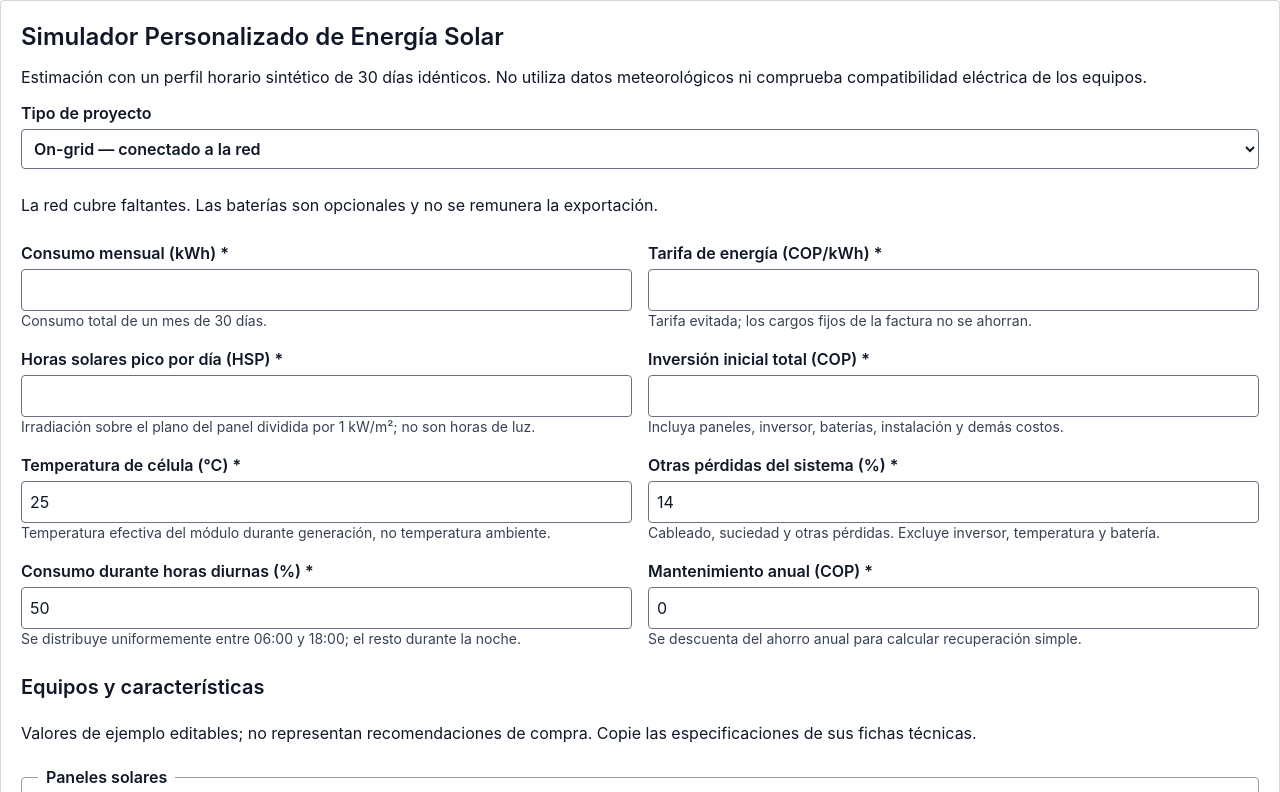
Test: SimuladorPersonalizado › Validación de campos › muestra error cuando la inversión es inválida
The image size is (1280, 792).
In the number field with test id "input-inversion-inicial": {"x": 954, "y": 396} [648, 375, 1259, 417], type "-1000000"
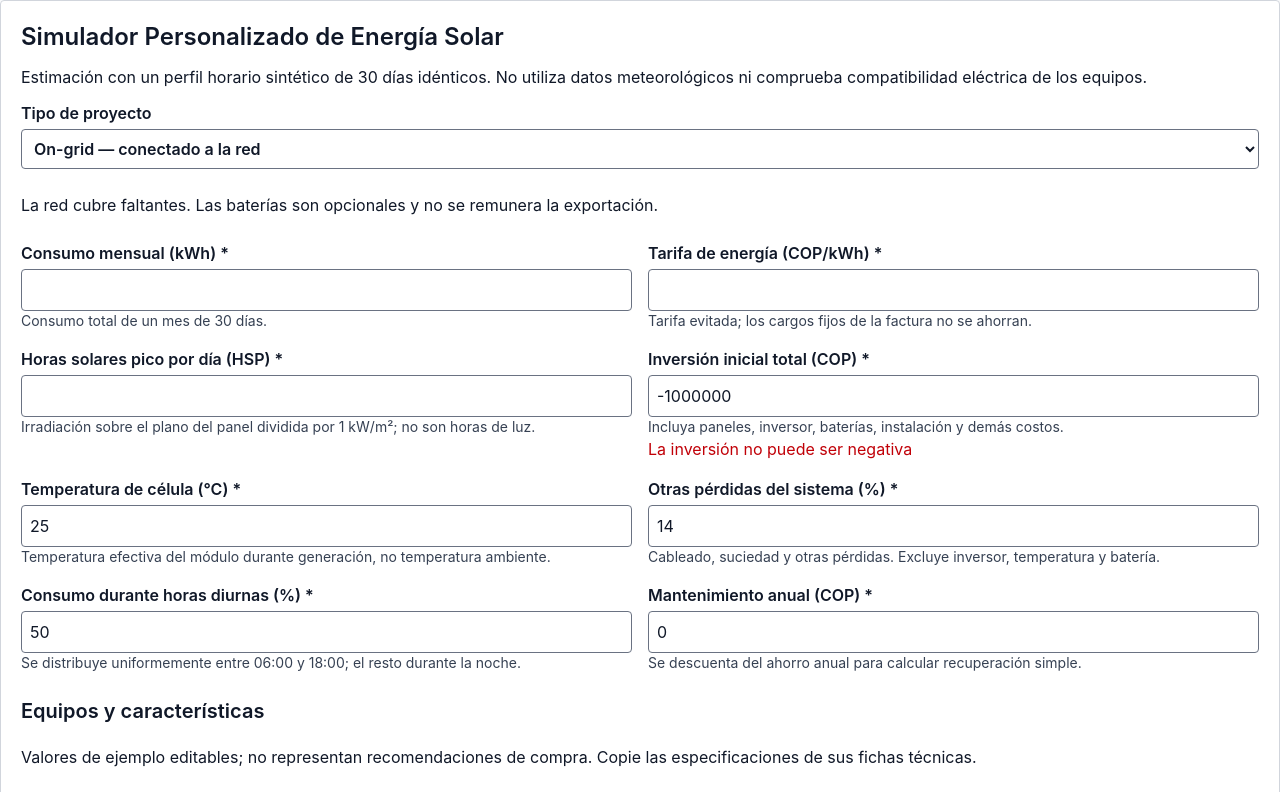
Check: the text "La inversión no puede ser negativa" is shown, box [648, 439, 912, 459]
